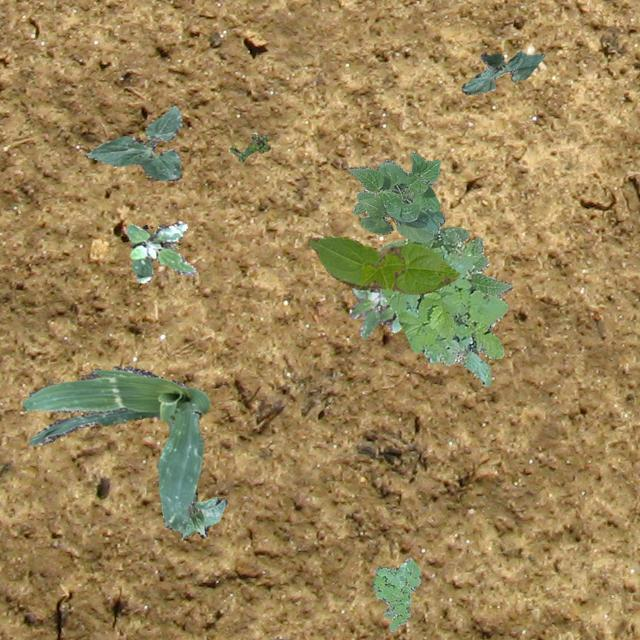crop: (22, 364, 208, 530), (378, 226, 512, 296), (306, 234, 458, 294), (346, 150, 444, 240), (86, 104, 180, 180), (460, 50, 544, 94), (180, 488, 226, 538)
weed: (380, 228, 508, 386), (124, 220, 194, 282), (370, 556, 420, 630), (348, 286, 401, 338), (228, 132, 270, 162)
